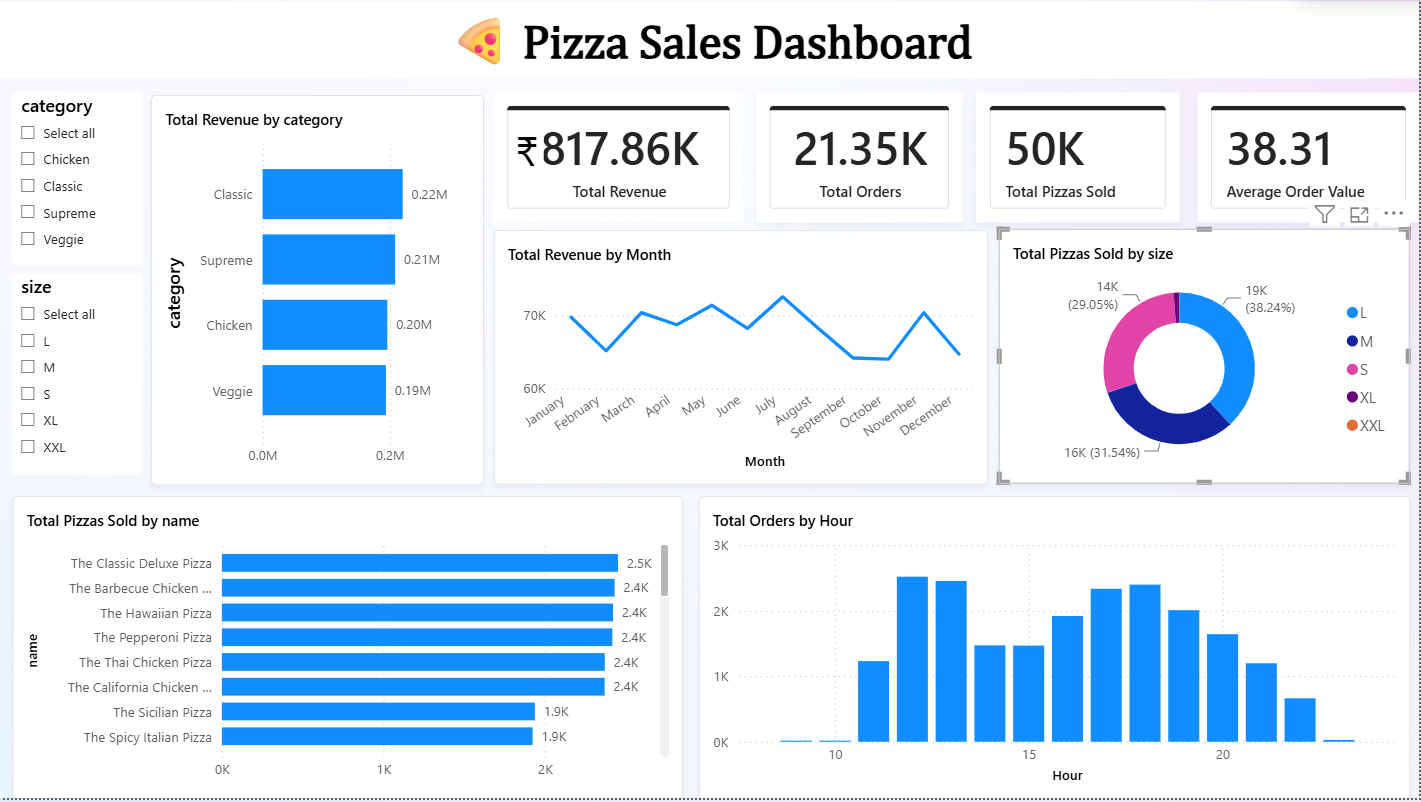

Layout of this report page (visuals, bound fields, positions):
{"tool":"powerbi","page":{"name":"Page 1","canvas":[1280,720],"ordinal":0},"visuals":[{"type":"cardVisual","fields":{"Data":["Count(order_details.order_id)"]},"box":[682,82.9,186.1,117.7],"z":0},{"type":"cardVisual","fields":{"Data":["order_details.Total Revenue"]},"box":[445.5,82.9,225.7,117.7],"z":1000},{"type":"cardVisual","fields":{"Data":["order_details.Total Pizzas Sold"]},"box":[880.2,82.9,183.7,117.7],"z":2000},{"type":"cardVisual","fields":{"Data":["order_details.Average Order Value"]},"box":[1079.5,82.9,200.5,117.7],"z":3000},{"type":"barChart","fields":{"Category":["pizza_types.category"],"Y":["order_details.Total Revenue"]},"box":[136.4,85.7,299.8,351.7],"z":4000},{"type":"clusteredBarChart","fields":{"Category":["pizza_types.name"],"Y":["order_details.Total Pizzas Sold"]},"box":[10.8,447.9,605.2,272.6],"z":5000},{"type":"columnChart","fields":{"Category":["orders.Hour"],"Y":["order_details.Total Orders"]},"box":[630.1,447.5,641.3,272.8],"z":6000},{"type":"slicer","fields":{"Values":["pizza_types.category"]},"box":[10.8,82.9,116.5,156.1],"z":7000},{"type":"slicer","fields":{"Values":["pizzas.size"]},"box":[10.8,247.4,116.5,181.3],"z":8000},{"type":"donutChart","fields":{"Y":["order_details.Total Pizzas Sold"],"Category":["pizzas.size"]},"box":[900.6,206.3,370.8,229.9],"z":9000},{"type":"textbox","box":[0,1.2,1280,69.6],"z":10000},{"type":"textbox","box":[461,104.8,28.2,64.2],"z":11000},{"type":"lineChart","fields":{"Y":["order_details.Total Revenue"],"Category":["orders.date.Variation.Date Hierarchy.Month"]},"box":[445.5,207.7,445.5,229.3],"z":12000}]}

Visuals, with their boxes in screenshot pixels (x1, y1, x2, y2), scaled from the page's 1280x720 canvas onto the 1421x802 screenshot:
cardVisual - Count(order_details.order_id): detection(757, 92, 964, 223)
cardVisual - order_details.Total Revenue: detection(495, 92, 745, 223)
cardVisual - order_details.Total Pizzas Sold: detection(977, 92, 1181, 223)
cardVisual - order_details.Average Order Value: detection(1198, 92, 1420, 223)
barChart - pizza_types.category x order_details.Total Revenue: detection(151, 95, 484, 487)
clusteredBarChart - pizza_types.name x order_details.Total Pizzas Sold: detection(12, 499, 684, 801)
columnChart - orders.Hour x order_details.Total Orders: detection(700, 498, 1411, 801)
slicer - pizza_types.category: detection(12, 92, 141, 266)
slicer - pizzas.size: detection(12, 276, 141, 478)
donutChart - order_details.Total Pizzas Sold x pizzas.size: detection(1000, 230, 1411, 486)
textbox: detection(0, 1, 1420, 79)
textbox: detection(512, 117, 543, 188)
lineChart - order_details.Total Revenue x orders.date.Variation.Date Hierarchy.Month: detection(495, 231, 989, 487)
